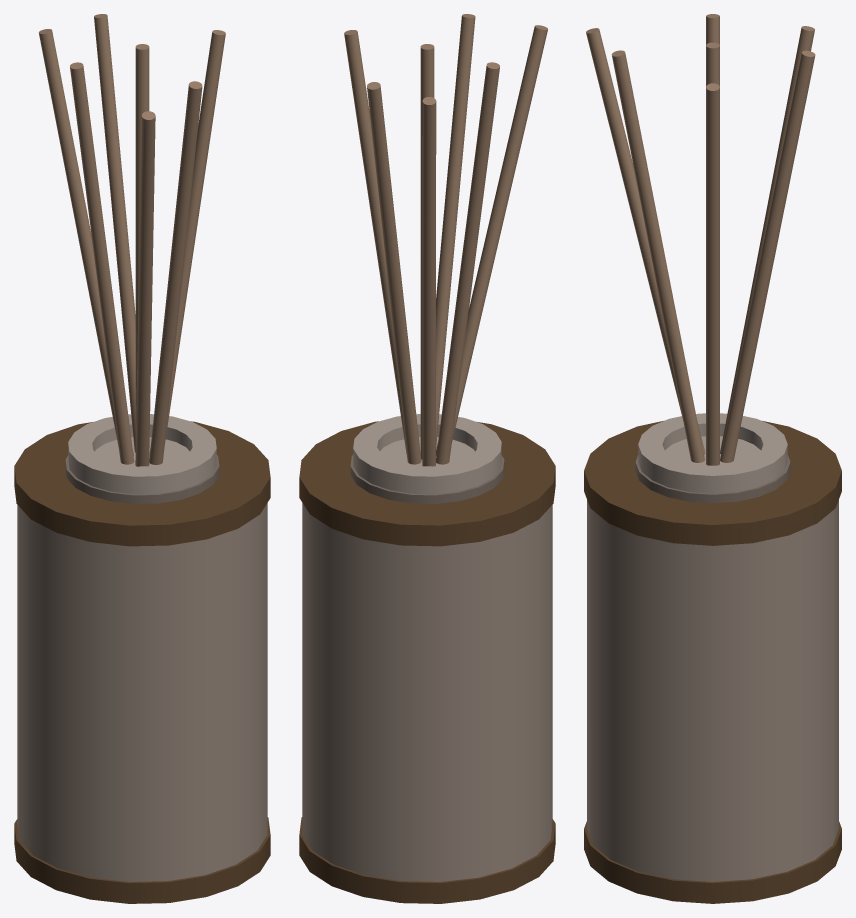
Rendered from colored perfumed sticks.fbx.
3 views of the same model, side by side, from view 1: azimuth 30°, elevation 25°; view 2: azimuth 150°, elevation 25°; view 3: azimuth 270°, elevation 25° (orthographic).
Visible parts, largest first — view 1: pCylinder1, pCylinder13, pCylinder11, pCylinder2, pCylinder12, pCylinder3; view 2: pCylinder1, pCylinder13, pCylinder11, pCylinder2, pCylinder12, pCylinder3; view 3: pCylinder1, pCylinder13, pCylinder11, pCylinder2, pCylinder12, pCylinder3.
Part boxes in pixels (left/top/right/bottom): pCylinder1: left=17, top=503, right=267, bottom=881; pCylinder13: left=38, top=14, right=225, bottom=466; pCylinder11: left=14, top=421, right=270, bottom=546; pCylinder2: left=68, top=414, right=216, bottom=494; pCylinder12: left=14, top=817, right=270, bottom=903; pCylinder3: left=65, top=455, right=219, bottom=503; pCylinder1: left=302, top=503, right=552, bottom=881; pCylinder13: left=344, top=14, right=547, bottom=466; pCylinder11: left=299, top=421, right=555, bottom=546; pCylinder2: left=353, top=414, right=501, bottom=494; pCylinder12: left=299, top=817, right=555, bottom=903; pCylinder3: left=350, top=455, right=504, bottom=503; pCylinder1: left=587, top=500, right=838, bottom=881; pCylinder13: left=586, top=14, right=815, bottom=465; pCylinder11: left=584, top=421, right=841, bottom=545; pCylinder2: left=638, top=413, right=787, bottom=493; pCylinder12: left=584, top=821, right=841, bottom=903; pCylinder3: left=635, top=455, right=790, bottom=503.
Size of the model in its own units: 0.0906 by 0.3117 by 0.0906.
